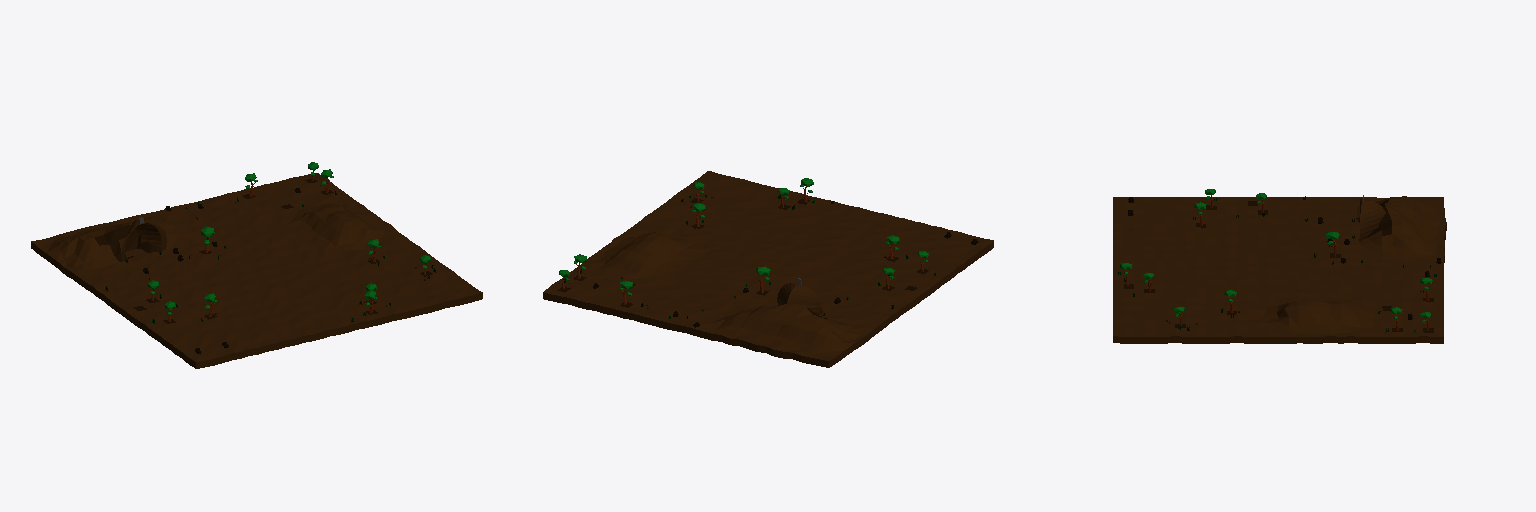
File: CaveatMachpelah.obj
3 renders of one model, left to right at view 1: azimuth 30°, elevation 25°; view 2: azimuth 150°, elevation 25°; view 3: azimuth 270°, elevation 25°, orthographic.
Parts seen in each view (by area): view 1: Plane_Plane.001, Sphere.001_Sphere; view 2: Plane_Plane.001, Sphere.001_Sphere; view 3: Plane_Plane.001, Sphere.001_Sphere.
Boxes of the visible parts, x1=… form: Plane_Plane.001: x1=31, y1=173, x2=482, y2=368; Sphere.001_Sphere: x1=122, y1=220, x2=166, y2=259; Plane_Plane.001: x1=543, y1=171, x2=993, y2=367; Sphere.001_Sphere: x1=777, y1=283, x2=822, y2=316; Plane_Plane.001: x1=1113, y1=196, x2=1446, y2=343; Sphere.001_Sphere: x1=1360, y1=198, x2=1385, y2=241.
Bounding box in the file's own units: 211 × 35.95 × 212.